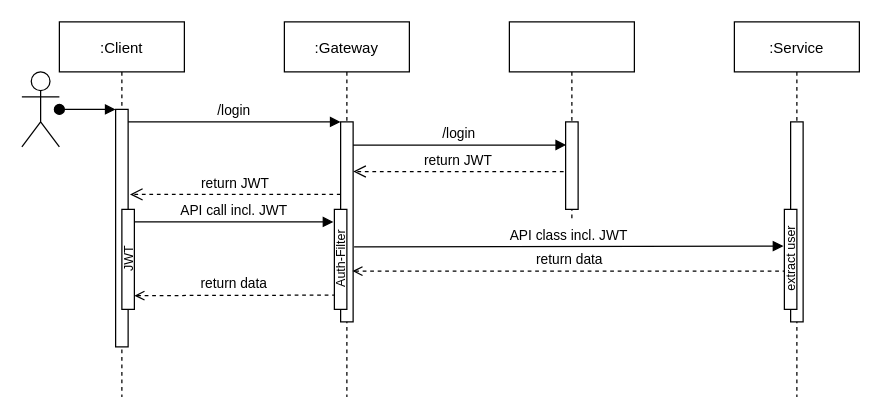
Some shapes in this 881 by 419 pixel diagram are drawn without their labels. Here are the shapes that lost their labels. From the top down, the centre of each, then its label:
At (40,109): "User".
At (571,121): ":User-Service".
